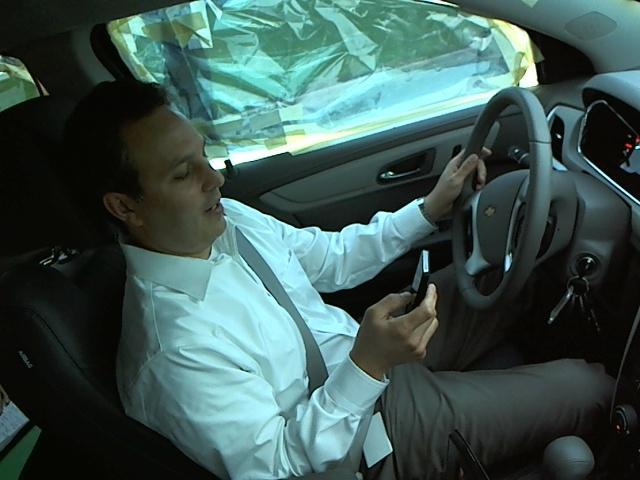PhoneUse: (400, 247, 434, 321)
